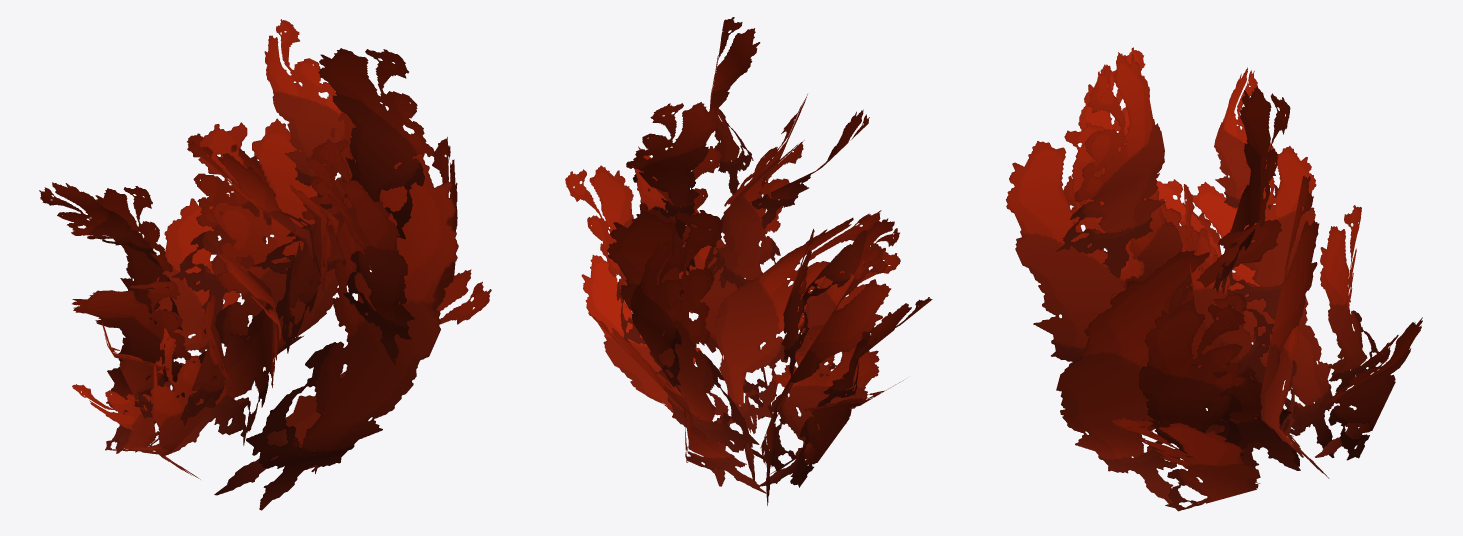
Rendered from Red Algae 2_preview_3DS_simplified.glb.
3 views of the same model, side by side, from view 1: azimuth 30°, elevation 25°; view 2: azimuth 150°, elevation 25°; view 3: azimuth 270°, elevation 25° (orthographic). The views are drawn at different scales.
Visible parts, largest first — view 1: Marine Park Empire model; view 2: Marine Park Empire model; view 3: Marine Park Empire model.
Boxes of the visible parts, x1,y1,x2,y2 form: Marine Park Empire model: [39, 19, 491, 510]; Marine Park Empire model: [565, 17, 932, 505]; Marine Park Empire model: [1006, 47, 1422, 511].
Size of the model in its own units: 86 by 92.94 by 81.37.
Materials: 1 (1 with a texture image).
